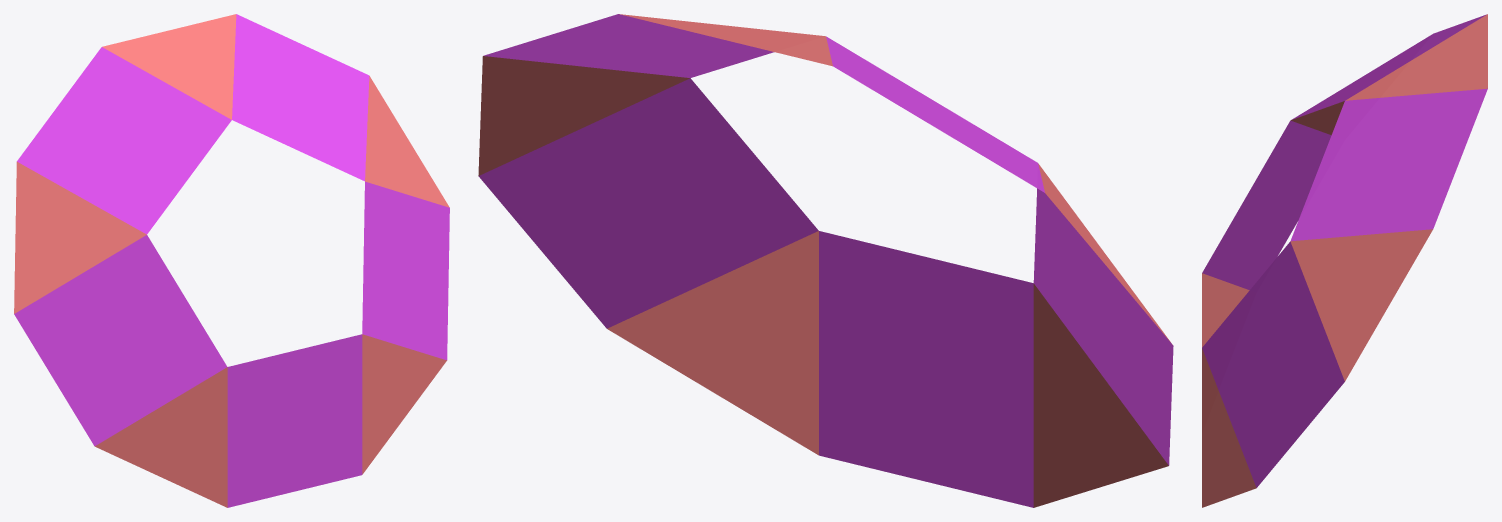
File: PentagonalCupolaA.obj
3 renders of one model, left to right at view 1: azimuth 30°, elevation 25°; view 2: azimuth 150°, elevation 25°; view 3: azimuth 270°, elevation 25°, orthographic. The views are drawn at different scales.
Size of the model in its own units: 3.24 by 2.62 by 1.62.
